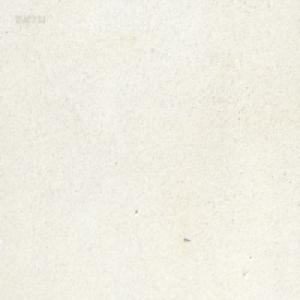Nail: (183, 236, 190, 241)
